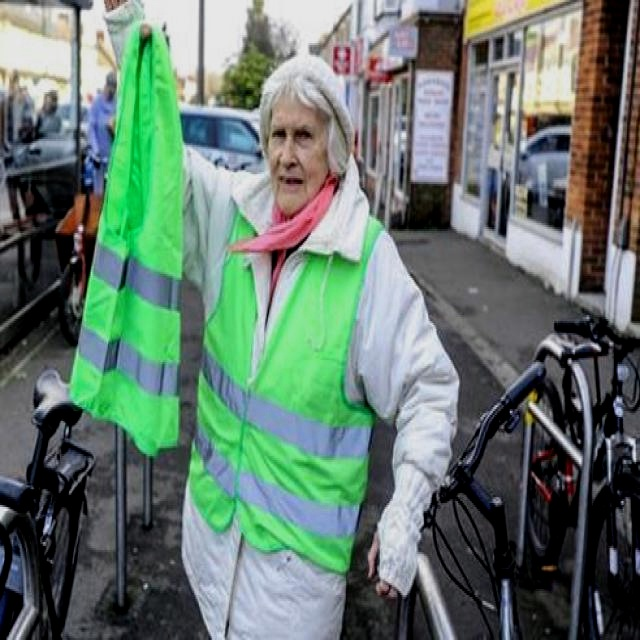Con_Chaleco: (187, 181, 387, 542)
